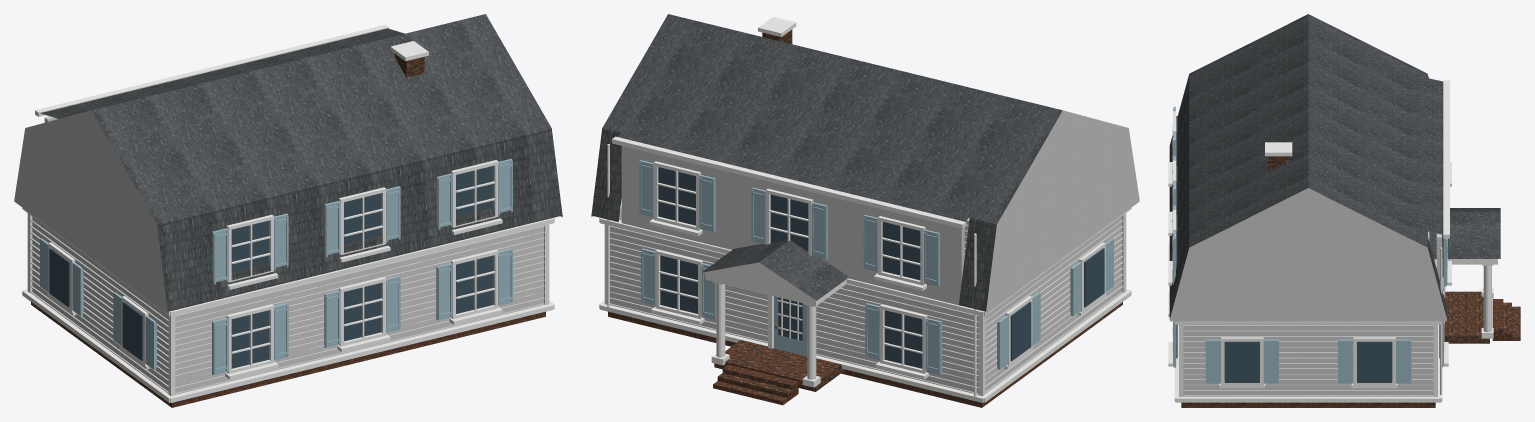
The model's file is building-type-a.glb.
The picture shows the model from 3 angles, left to right: view 1: azimuth 30°, elevation 25°; view 2: azimuth 150°, elevation 25°; view 3: azimuth 270°, elevation 25°; orthographic projection. The views are drawn at different scales.
Parts seen in each view (by area): view 1: colonial house a; view 2: colonial house a; view 3: colonial house a.
Part boxes in pixels (x1,y1,x2,y2): colonial house a: [14, 14, 562, 407]; colonial house a: [591, 14, 1139, 407]; colonial house a: [1168, 14, 1520, 407].
Bounding box in the file's own units: 15.2 × 9.15 × 13.02.
7 materials, 4 textured.
